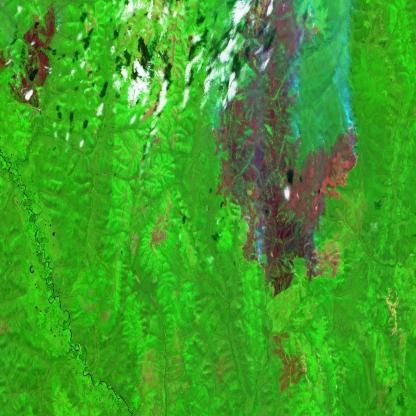fire: (207, 82, 364, 306), (300, 14, 322, 43), (51, 21, 62, 39)
